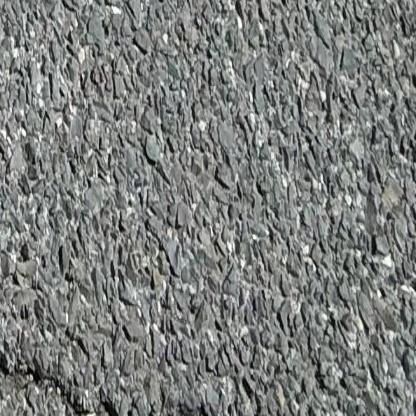Cracks: (0, 340, 90, 416), (97, 399, 129, 416)
